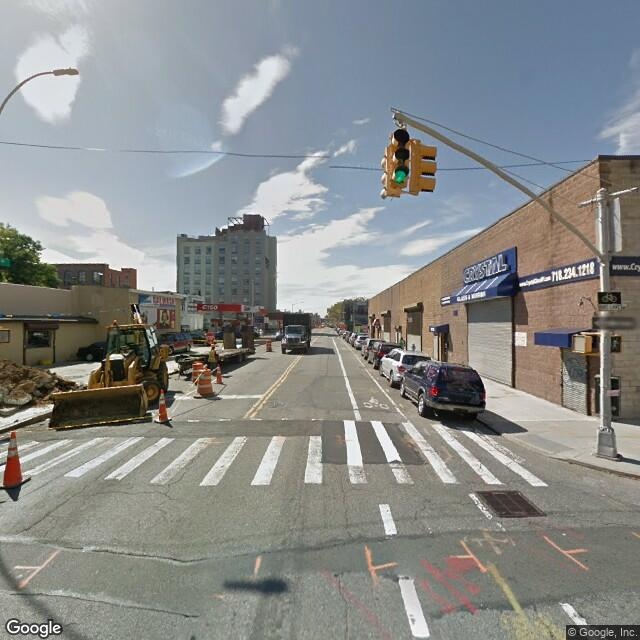litter: (10, 413, 24, 426)
